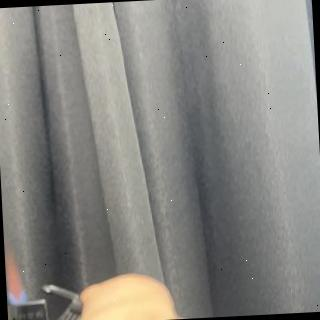fire: (6, 248, 28, 306)
